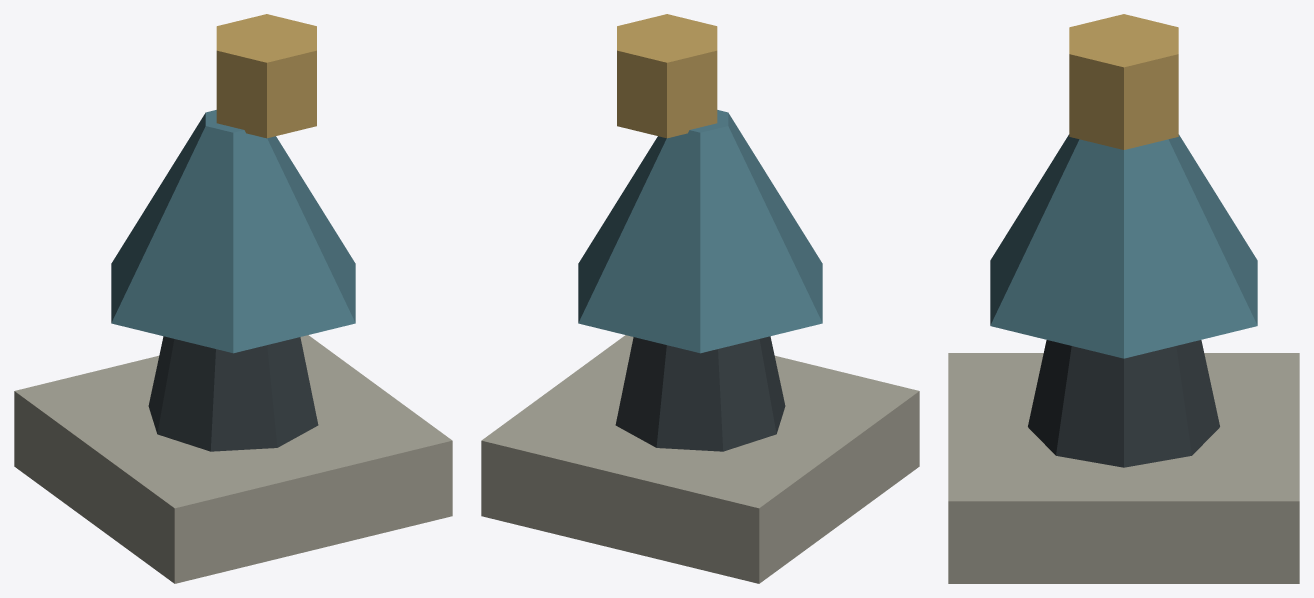
Rendered from sculpture.glb.
3 views of the same model, side by side, from view 1: azimuth 30°, elevation 25°; view 2: azimuth 150°, elevation 25°; view 3: azimuth 270°, elevation 25° (orthographic). The views are drawn at different scales.
Parts seen in each view (by area): view 1: sculpture; view 2: sculpture; view 3: sculpture.
Boxes of the visible parts, x1,y1,x2,y2 form: sculpture: [14, 14, 452, 583]; sculpture: [481, 14, 919, 583]; sculpture: [948, 14, 1299, 583].
Size of the model in its own units: 1 by 1.53 by 1.
